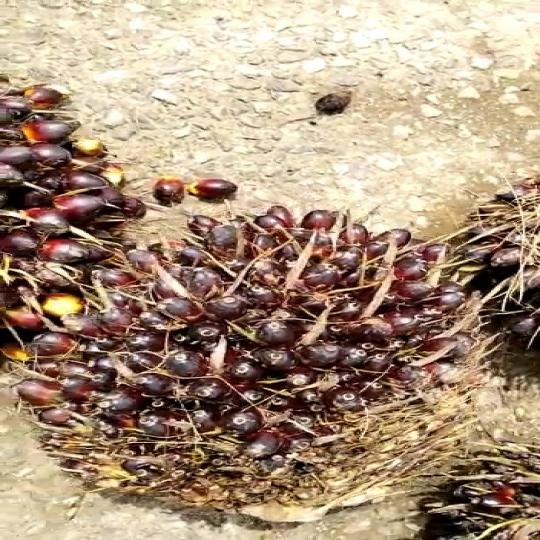kurang masak: (38, 208, 487, 525)
